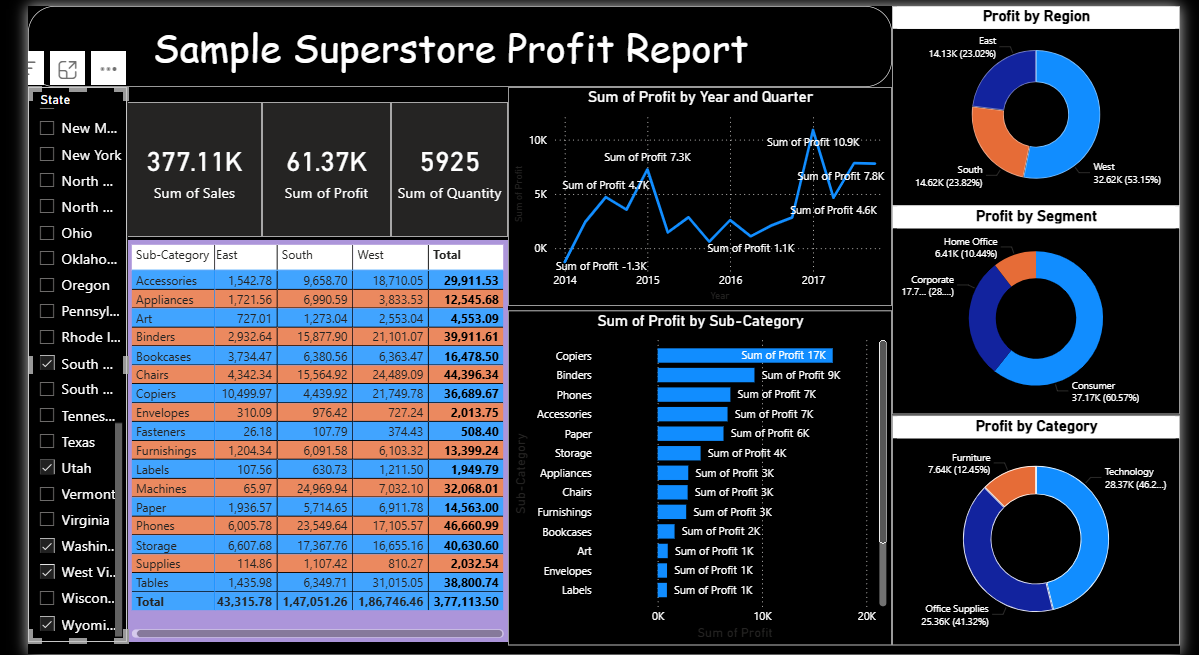

What the dashboard file says about the page in this screenshot:
{"tool":"powerbi","page":{"name":"Page 1","canvas":[1280,720],"ordinal":0},"visuals":[{"type":"textbox","box":[0,0,960,90],"z":0},{"type":"donutChart","title":"Profit by Category","fields":{"Category":["Orders.Category"],"Y":["Sum(Orders.Profit)"]},"box":[960,455,320,255],"z":1000},{"type":"donutChart","title":"Profit by Segment","fields":{"Category":["Orders.Segment"],"Y":["Sum(Orders.Profit)"]},"box":[960,221.7,320,231.7],"z":2000},{"type":"donutChart","title":"Profit by Region","fields":{"Y":["Sum(Orders.Profit)"],"Category":["Orders.Region"]},"box":[960,0,320,221.7],"z":3000},{"type":"barChart","fields":{"Y":["Sum(Orders.Profit)"],"Category":["Orders.Sub-Category"]},"box":[533.3,338.3,426.7,371.7],"z":4000},{"type":"lineChart","fields":{"Category":["Orders.Order Date.Variation.Date Hierarchy.Year","Orders.Order Date.Variation.Date Hierarchy.Quarter","Orders.Order Date.Variation.Date Hierarchy.Month","Orders.Order Date.Variation.Date Hierarchy.Day"],"Y":["Sum(Orders.Profit)"]},"box":[533.3,90,426.7,243.3],"z":5000},{"type":"slicer","fields":{"Values":["Orders.State"]},"box":[0,90,110,616.7],"z":6000},{"type":"pivotTable","fields":{"Rows":["Orders.Sub-Category"],"Columns":["Orders.Region"],"Values":["Sum(Orders.Sales)"]},"box":[110,260,423.3,446.7],"z":7000},{"type":"card","fields":{"Values":["Sum(Orders.Sales)"]},"box":[110,106.7,150,150],"z":8000},{"type":"card","fields":{"Values":["Sum(Orders.Profit)"]},"box":[260,106.7,143.3,150],"z":9000},{"type":"card","fields":{"Values":["Sum(Orders.Quantity)"]},"box":[403.3,106.7,130,150],"z":10000}]}

Visuals, with their boxes in screenshot pixels (x1, y1, x2, y2):
textbox: 25/3/887/84
"Profit by Category" donutChart: 887/412/1175/641
"Profit by Segment" donutChart: 887/202/1175/410
"Profit by Region" donutChart: 887/3/1175/202
barChart - Sum(Orders.Profit) x Orders.Sub-Category: 504/307/887/641
lineChart - Orders.Order Date.Variation.Date Hierarchy.Year x Orders.Order Date.Variation.Date Hierarchy.Quarter: 504/84/887/302
slicer - Orders.State: 25/84/124/638
pivotTable - Orders.Sub-Category x Orders.Region: 124/237/504/638
card - Sum(Orders.Sales): 124/99/258/234
card - Sum(Orders.Profit): 258/99/387/234
card - Sum(Orders.Quantity): 387/99/504/234
